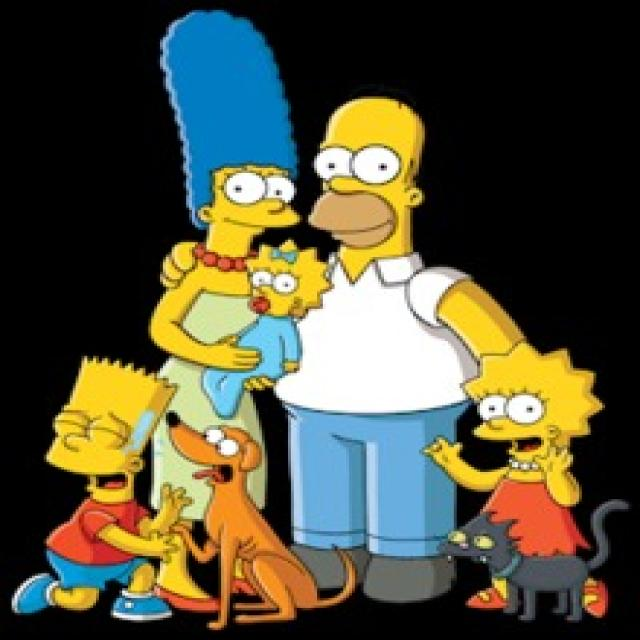Bart Simpson: (44, 358, 178, 507)
Homer Simpson: (302, 96, 430, 264)
Lisa Simpson: (452, 346, 606, 469)
Maggie Simpson: (243, 241, 333, 322)
Marge Simpson: (156, 9, 298, 258)
